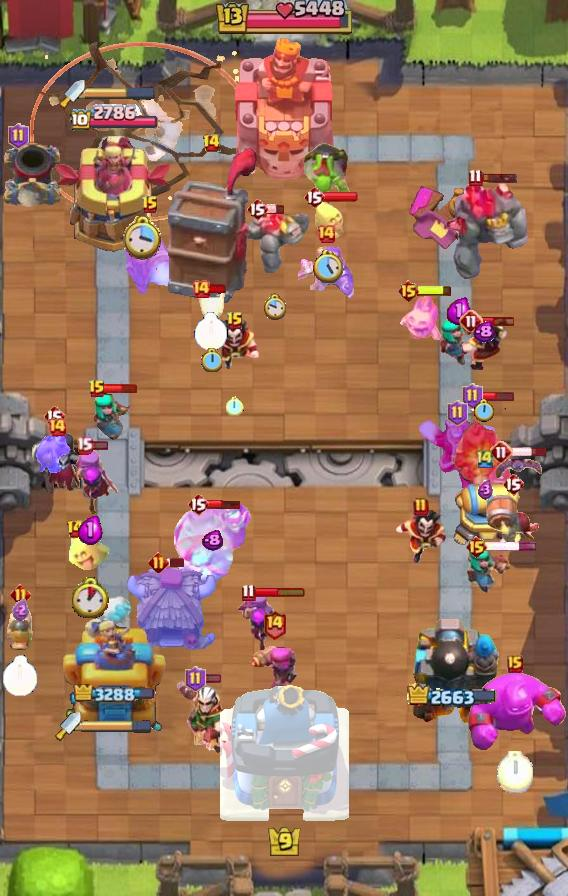bar: (253, 586, 306, 598), (485, 541, 538, 552), (417, 284, 453, 297), (511, 446, 548, 458), (481, 172, 518, 184), (480, 315, 516, 327), (323, 191, 359, 203), (480, 390, 515, 402), (206, 499, 242, 510), (104, 383, 138, 394), (209, 283, 228, 295), (166, 557, 186, 568), (203, 673, 222, 684), (90, 440, 109, 451), (266, 204, 285, 215)
bar-level: (262, 609, 287, 640), (489, 440, 513, 464), (459, 309, 483, 333), (465, 535, 488, 559), (397, 279, 420, 303), (185, 666, 206, 692), (447, 400, 468, 426), (462, 383, 483, 409), (8, 123, 29, 149), (187, 492, 209, 516), (502, 472, 524, 496), (43, 404, 65, 428), (246, 197, 268, 221), (303, 185, 325, 209), (10, 584, 31, 605), (148, 552, 169, 573), (475, 448, 495, 469), (47, 417, 67, 437), (191, 279, 211, 299), (316, 224, 336, 244), (66, 519, 85, 539), (202, 133, 221, 153), (88, 379, 106, 399), (226, 311, 244, 331), (141, 195, 159, 215), (76, 436, 93, 455), (413, 497, 429, 517), (507, 655, 523, 673), (241, 583, 256, 602), (468, 168, 483, 187)
bat: (493, 457, 545, 481)
cannoneer-tower: (406, 611, 500, 731)
clock: (123, 216, 162, 261), (72, 577, 109, 618), (497, 751, 533, 793), (2, 655, 38, 697), (194, 312, 228, 351), (313, 250, 343, 283), (263, 293, 286, 321), (474, 399, 495, 423), (201, 348, 222, 372), (226, 396, 244, 416)
dagger-duchess-tower: (52, 132, 176, 256), (62, 615, 167, 731)
dagger-duchess-tower-bar: (81, 719, 153, 733), (85, 87, 155, 101)
electro-wizard: (393, 507, 449, 565), (458, 319, 510, 373), (210, 319, 260, 371)
elixir: (78, 514, 103, 545), (447, 297, 471, 325), (473, 321, 495, 343), (202, 530, 223, 551), (12, 599, 29, 621), (478, 480, 493, 500)
firecracker: (249, 643, 299, 697)
firecracker-evolution: (121, 217, 179, 297)
goblin-ball: (301, 140, 351, 200)
golemite: (236, 208, 312, 276)
heal-spirit: (68, 529, 112, 573), (311, 195, 345, 239)
ice-spirit: (97, 593, 135, 633)
ice-spirit-evolution: (400, 293, 442, 343)
ice-wizard: (414, 418, 500, 492)
king-tower: (220, 678, 349, 826), (228, 35, 340, 181)
king-tower-bar: (213, 0, 355, 38)
knight-evolution: (298, 245, 354, 301)
lava-pup: (194, 286, 228, 324)
minion: (35, 432, 73, 474)
mortar: (0, 142, 64, 208)
mother-witch: (236, 588, 288, 658), (71, 446, 119, 518)
night-witch: (29, 429, 85, 499)
rascal-girl: (466, 546, 514, 596), (92, 391, 134, 445), (438, 315, 480, 367)
royal-hog: (5, 605, 35, 651)
tower-bar: (69, 104, 159, 133), (407, 683, 499, 710), (74, 684, 154, 705)
wall-breaker: (485, 494, 541, 554)
